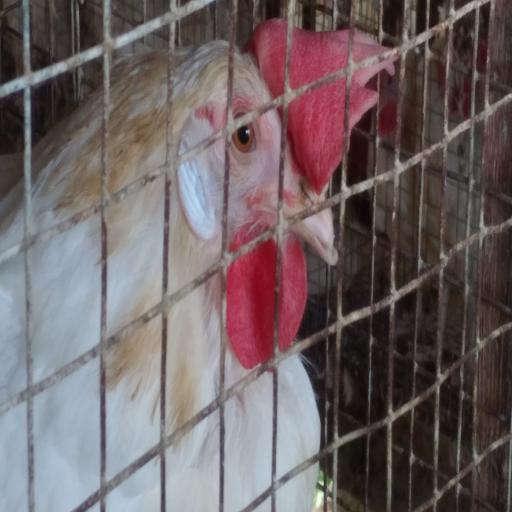healthy: (182, 17, 358, 328)
